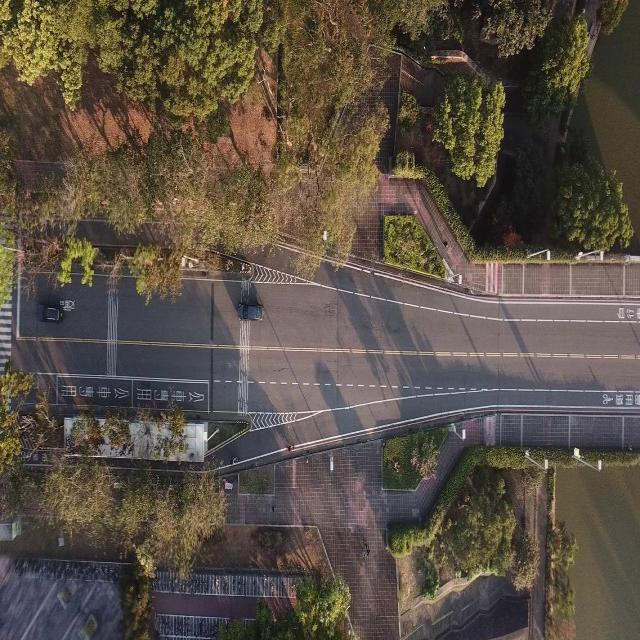car: (39, 303, 62, 322), (240, 302, 262, 321)
